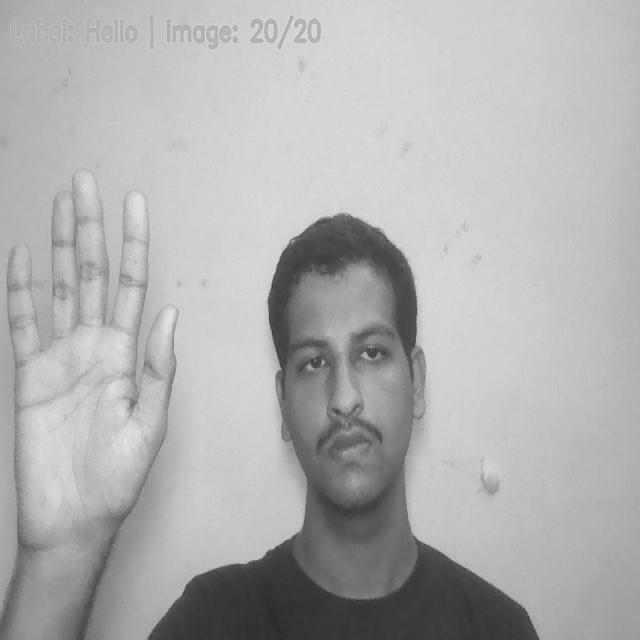Hello: (8, 178, 179, 553)
